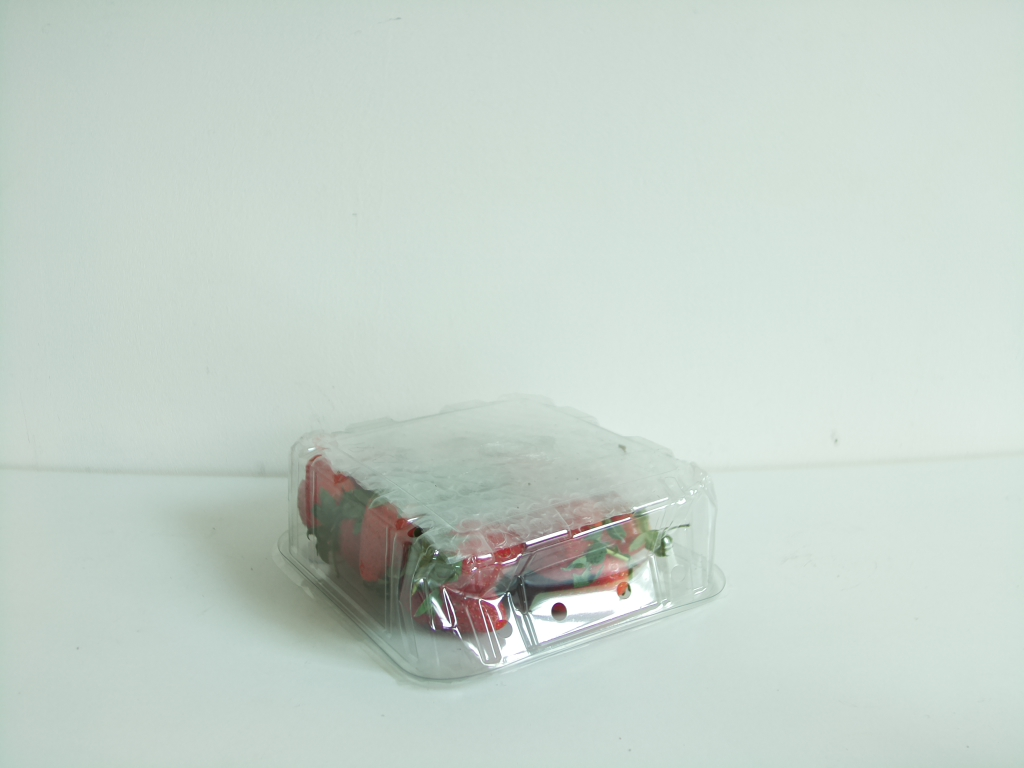soft-fruit: (273, 389, 740, 694)
